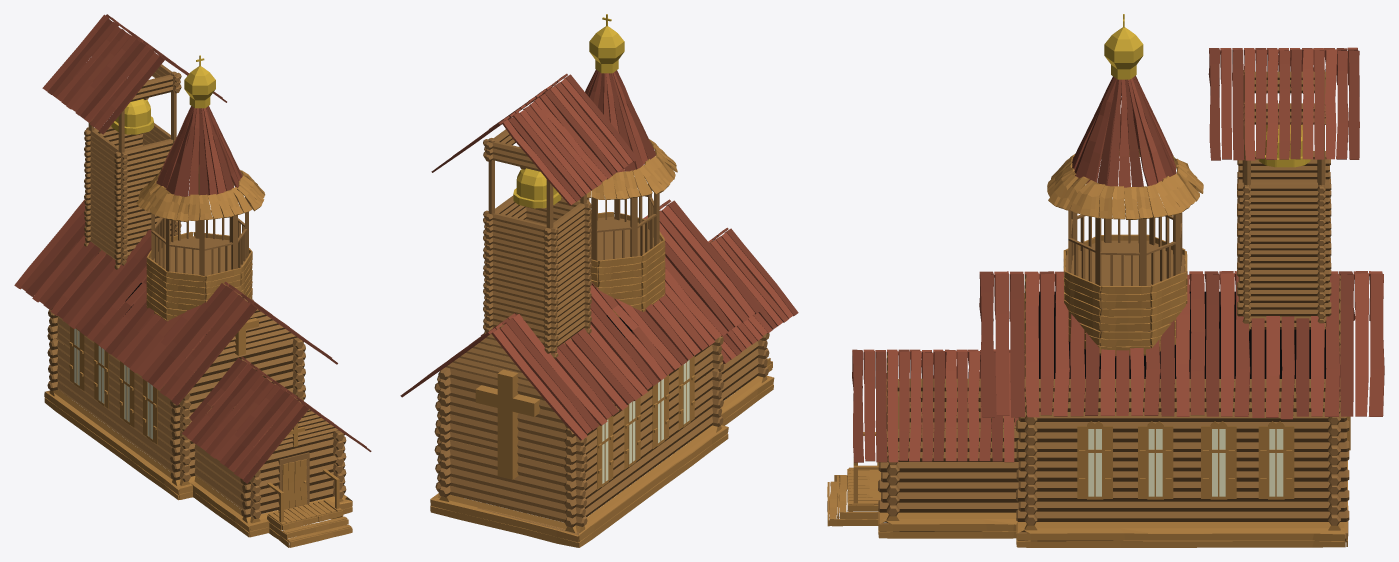
The model's file is Kirche_2.fbx.
The picture shows the model from 3 angles, left to right: view 1: azimuth 30°, elevation 25°; view 2: azimuth 150°, elevation 25°; view 3: azimuth 270°, elevation 25°; orthographic projection. The views are drawn at different scales.
Parts seen in each view (by area): view 1: Cylinder.001; view 2: Cylinder.001; view 3: Cylinder.001.
Boxes of the visible parts, x1,y1,x2,y2 form: Cylinder.001: (14,14,371,547); Cylinder.001: (400,14,798,547); Cylinder.001: (827,14,1384,547).
Size of the model in its own units: 1820 by 4248 by 4350.
